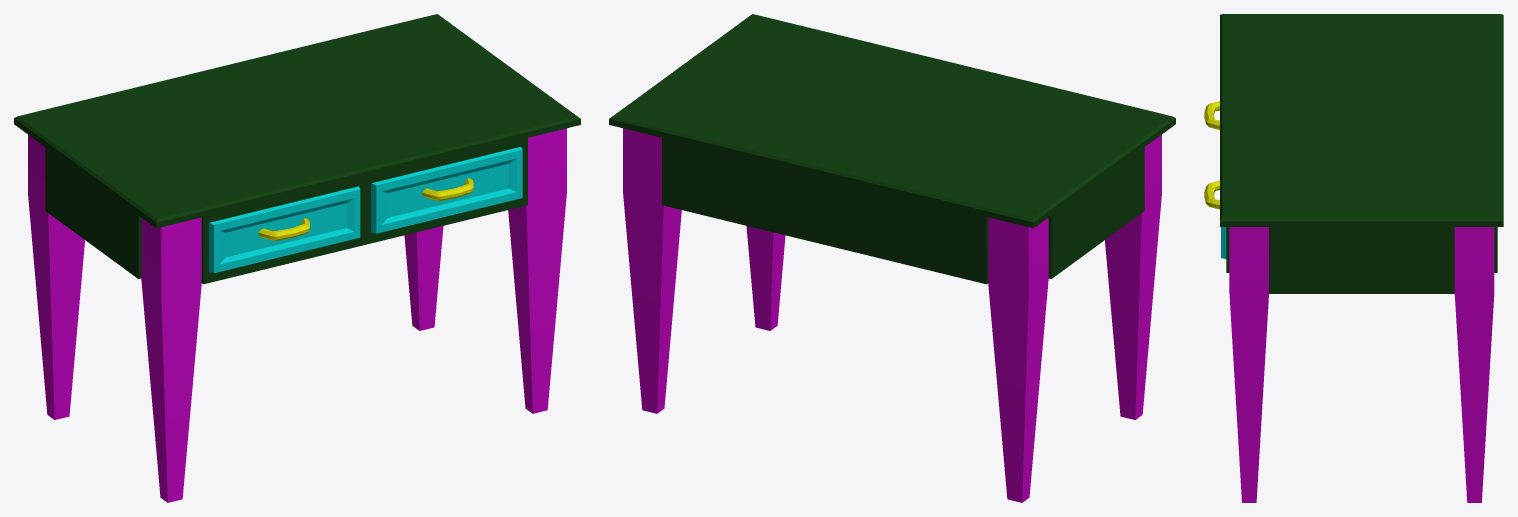
File: furniture_2_v2.fbx
3 views of the same model, side by side, from view 1: azimuth 30°, elevation 25°; view 2: azimuth 150°, elevation 25°; view 3: azimuth 270°, elevation 25° (orthographic).
Parts seen in each view (by area): view 1: furniture_2; view 2: furniture_2; view 3: furniture_2.
Boxes of the visible parts, x1,y1,x2,y2 form: furniture_2: [14, 14, 580, 502]; furniture_2: [609, 14, 1175, 502]; furniture_2: [1204, 14, 1503, 502].
Size of the model in its own units: 7.33 by 4.88 by 4.5.
